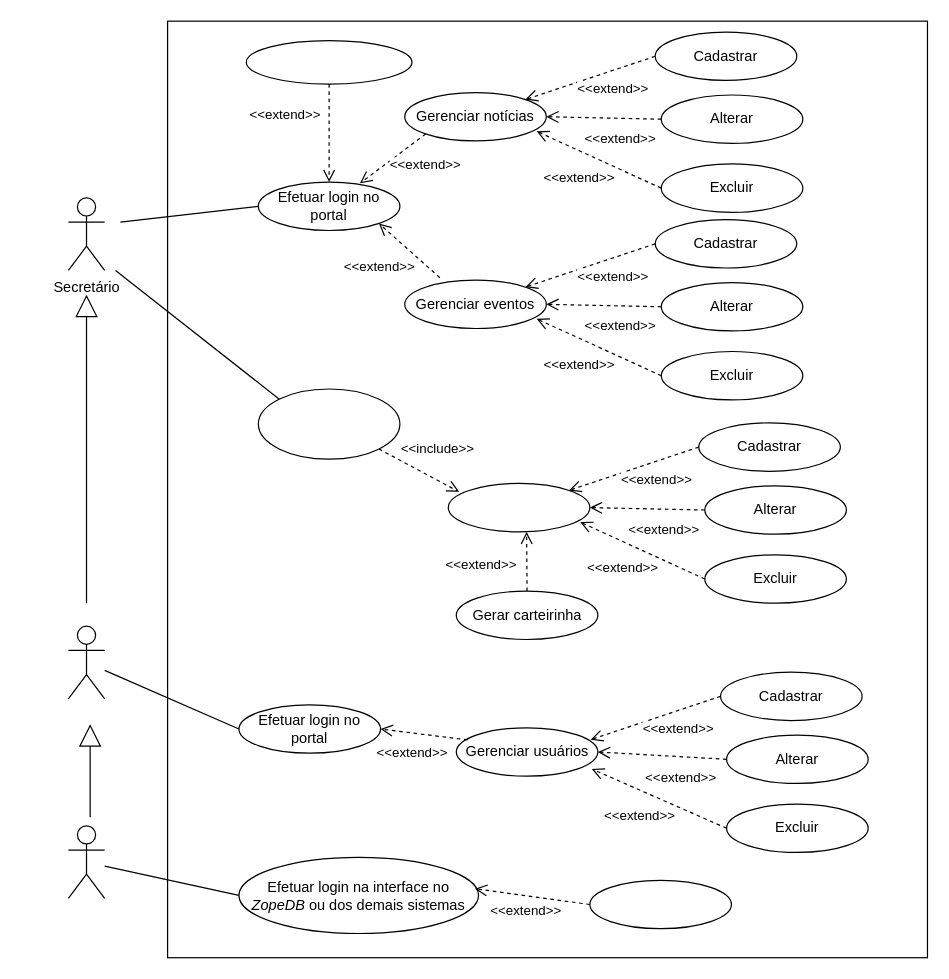
Image size: 949x979. Some labels were removed from this diagram. Here are the shapes that lost their labels. From the top down, the centre of each, then its label:
the point at 328,61: Alterar conteúdo das páginas
the point at 328,423: Efetuar login no sistema de associados
the point at 518,507: Consultar associados
the point at 86,662: Presidente
the point at 86,861: Super Administrador
the point at 660,904: Dar manutenção
